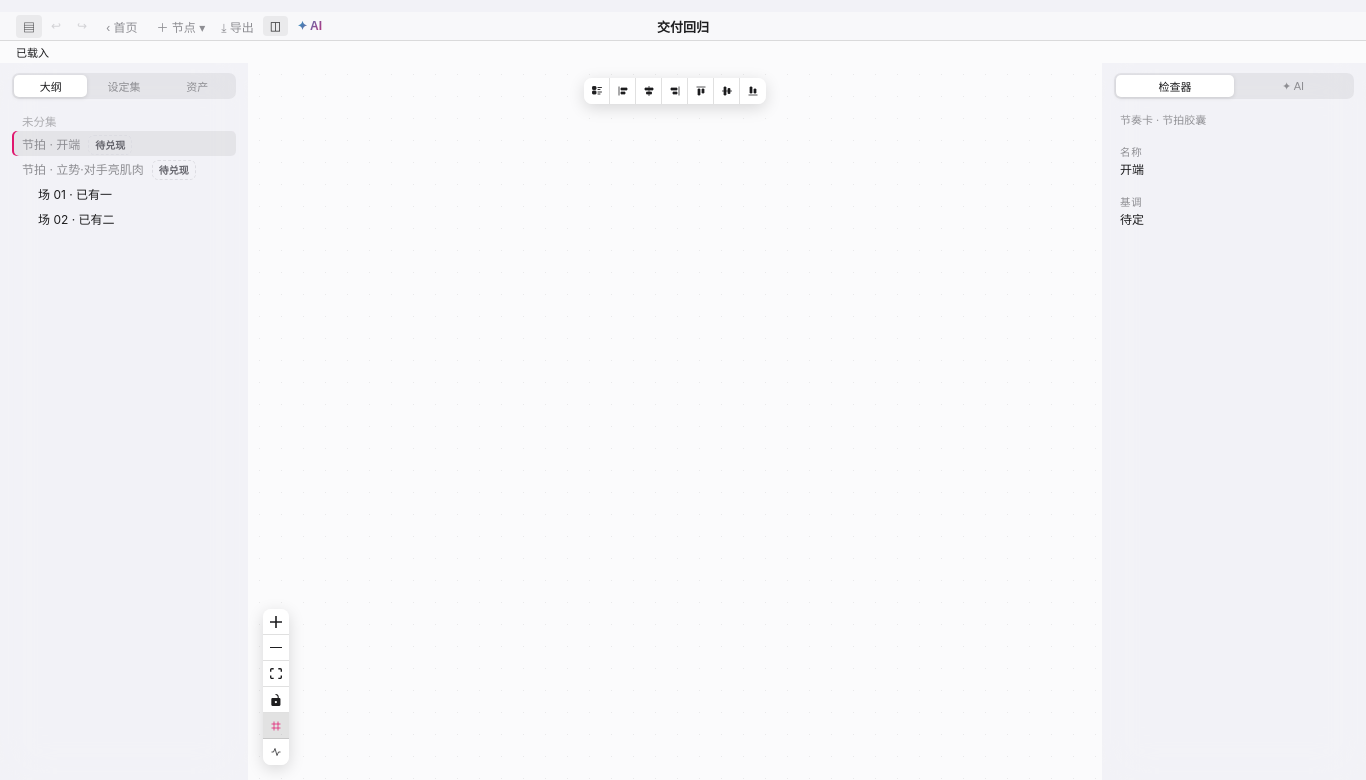
Test: 明确操作先交付预览，再由用户确认 › 耗尽时显示可操作的失败说明，随所属助手消息保存且没有执行入口
Click the button with aria-label "切换 AI 面板" at (310, 26), box [290, 16, 329, 36]
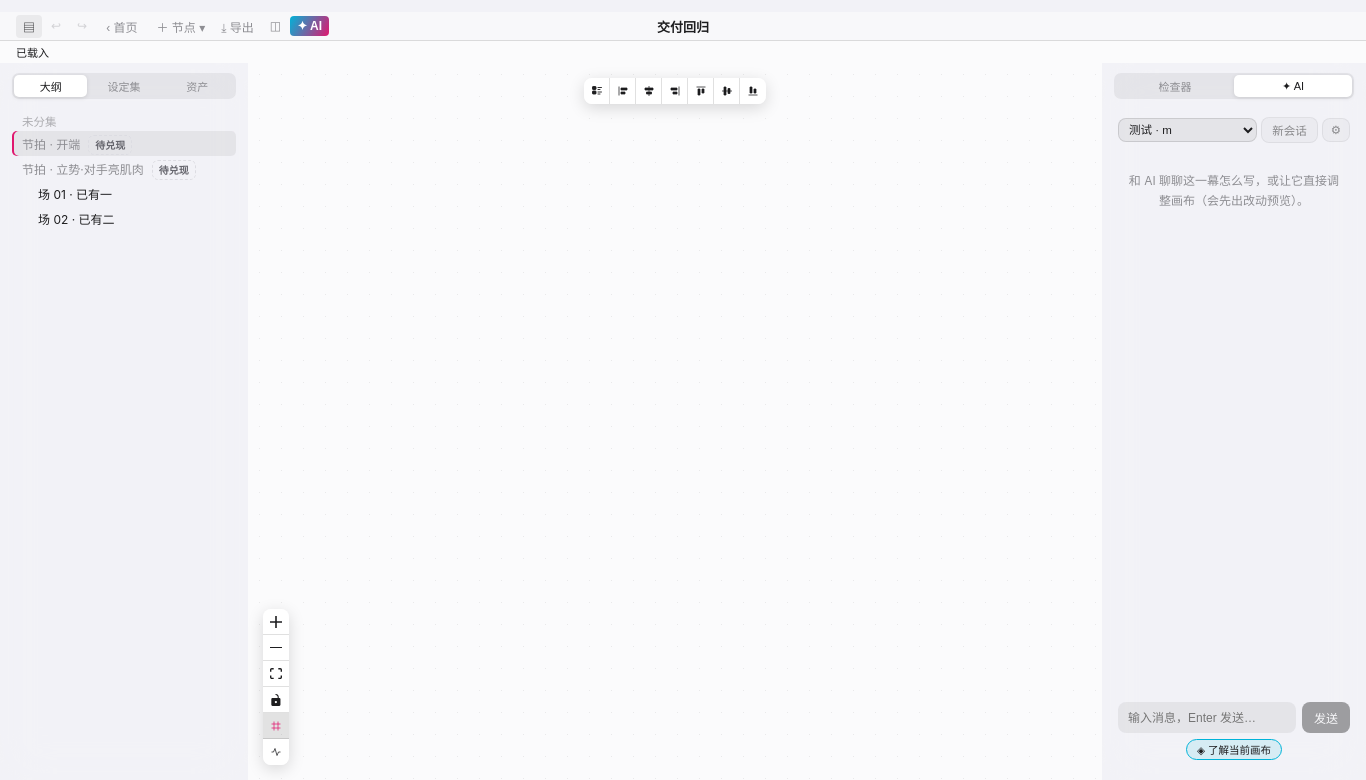
Check: the field named "AI 对话输入" is shown
Type "增加下一个场景" into the field named "AI 对话输入" at (1207, 718), box [1118, 702, 1296, 733]
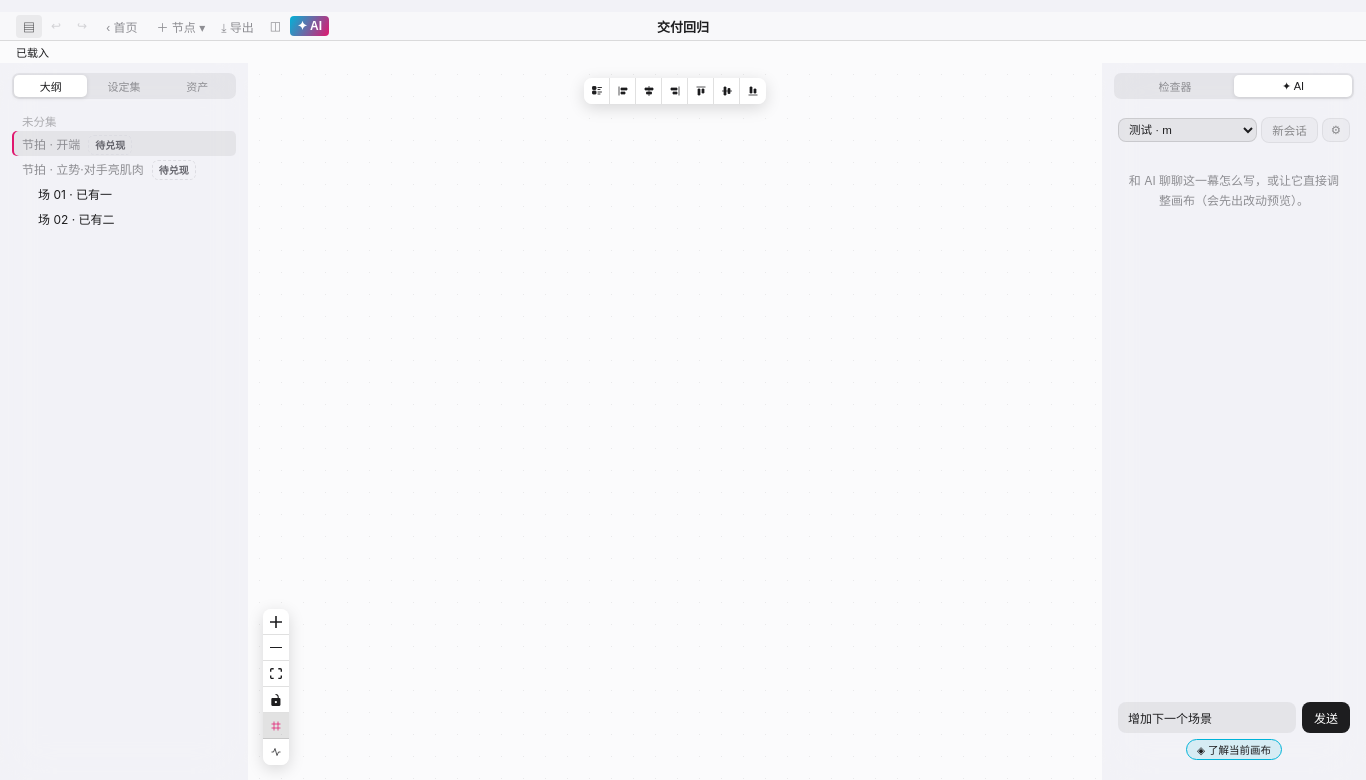
Press Enter in the field named "AI 对话输入", box [1118, 702, 1296, 733]
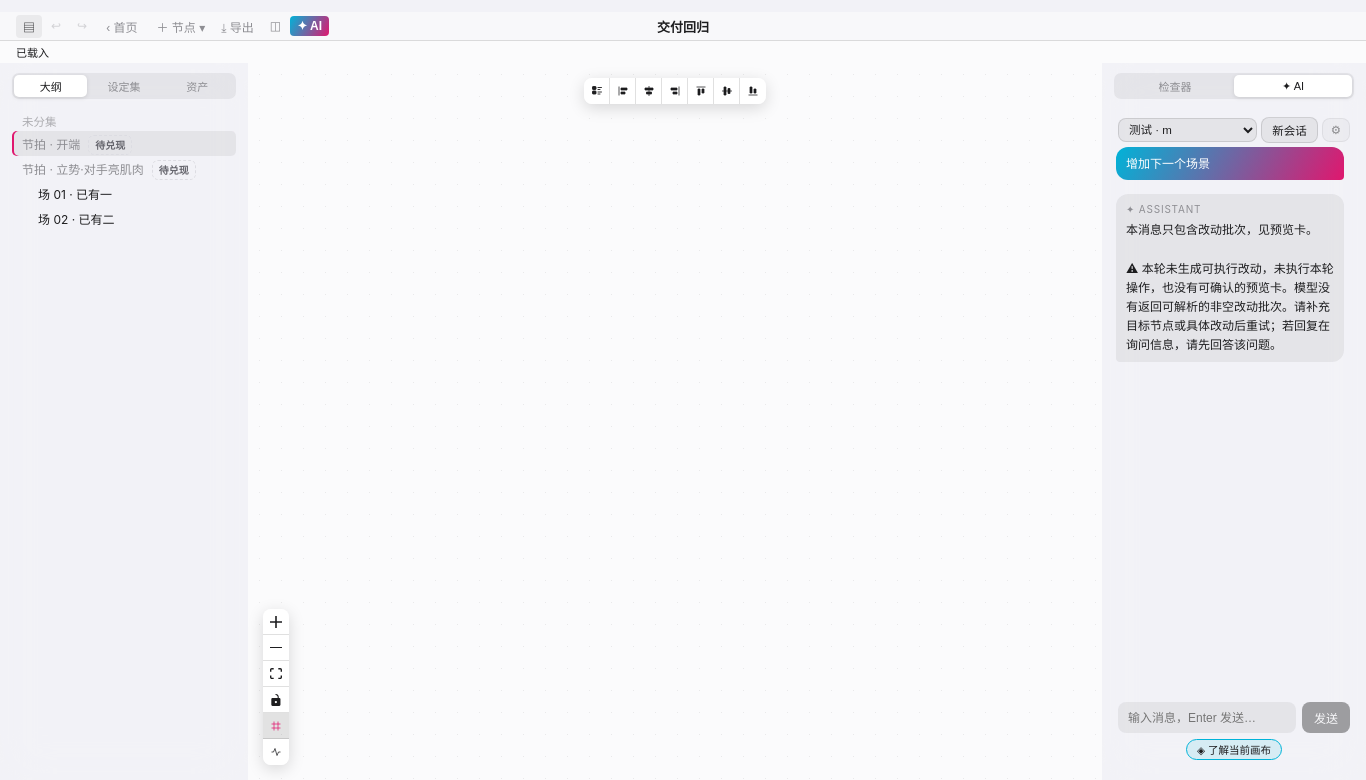
Check: the button named "撤销" is disabled, box [44, 16, 68, 36]
Check: the field named "AI 对话输入" is shown, box [1118, 702, 1296, 733]
Check: the text "本轮未生成可执行改动" is shown, box [1126, 222, 1334, 352]
